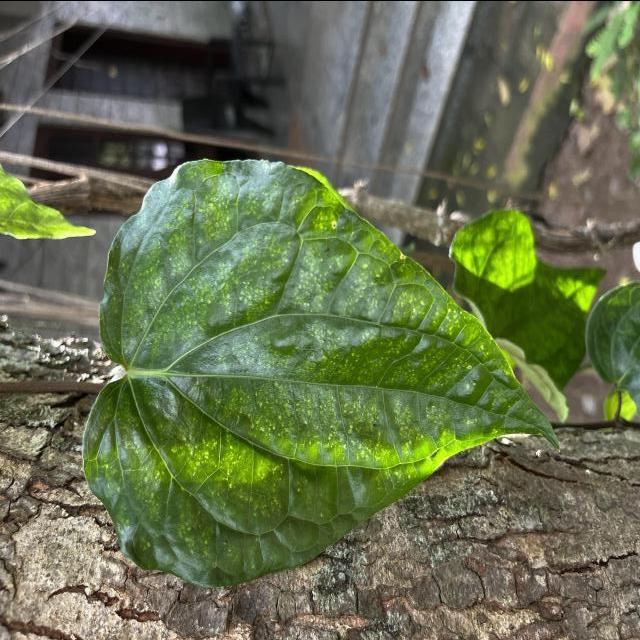Piper betle: (79, 150, 566, 590)
